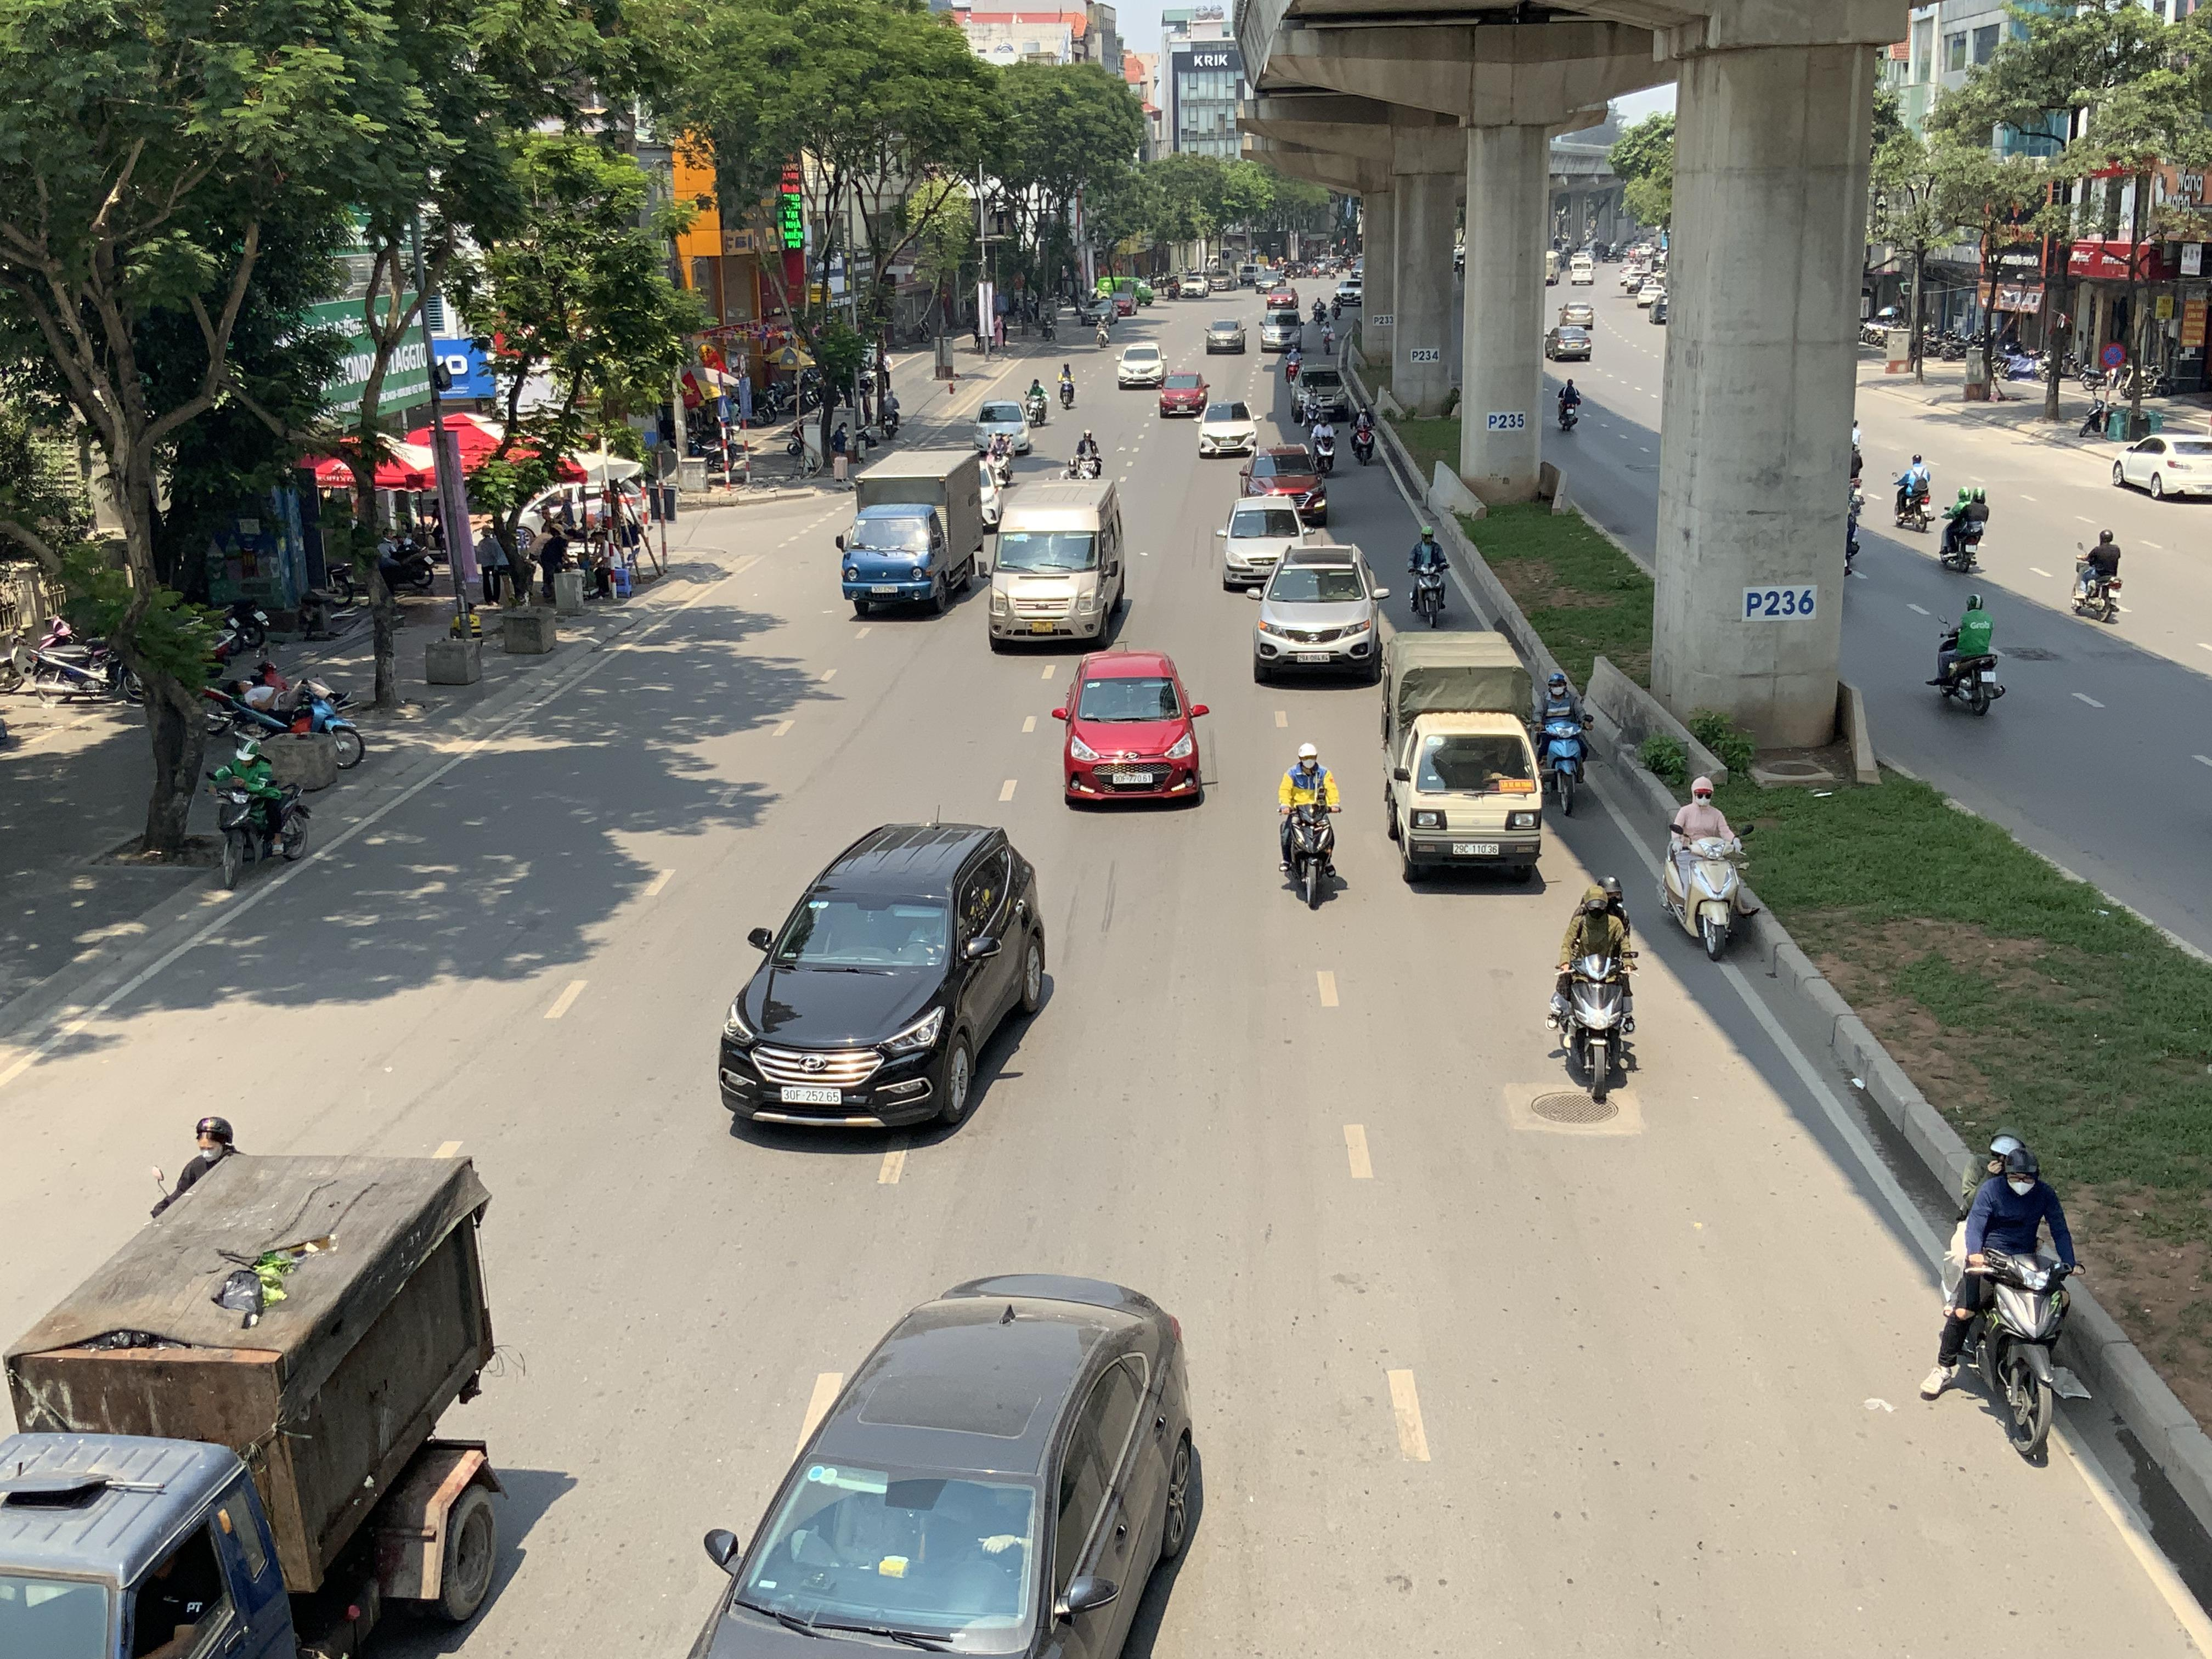BSD: (782, 1086, 841, 1103), (1453, 842, 1500, 854), (1113, 772, 1153, 784), (1296, 653, 1331, 662), (871, 586, 899, 592)
BSV: (1031, 622, 1054, 633)
car: (664, 1272, 1207, 1659), (718, 817, 1054, 1134), (1052, 650, 1212, 810), (1249, 542, 1392, 685), (1217, 495, 1306, 589), (1238, 444, 1331, 526), (2109, 432, 2212, 502), (1197, 399, 1259, 458), (1289, 364, 1348, 423), (975, 399, 1033, 455), (1115, 342, 1169, 389), (1158, 371, 1211, 416), (1259, 307, 1305, 354), (1545, 326, 1592, 362), (1205, 317, 1249, 354), (1082, 300, 1118, 326), (1557, 301, 1594, 328), (1264, 286, 1299, 308), (1334, 279, 1362, 307), (1254, 270, 1285, 295), (1108, 291, 1137, 315)
motorbike: (1925, 1133, 2080, 1469), (1548, 875, 1641, 1115), (206, 657, 366, 770), (1658, 775, 1752, 960), (211, 734, 310, 873), (1277, 741, 1345, 910), (1930, 594, 2003, 716), (1536, 667, 1594, 816), (1937, 481, 1989, 575), (2073, 526, 2123, 622), (1406, 526, 1451, 629), (1892, 451, 1935, 532), (1066, 429, 1104, 481), (1348, 401, 1378, 465), (1310, 411, 1338, 477), (2080, 392, 2116, 437), (1555, 373, 1581, 434), (1022, 375, 1049, 427), (1055, 361, 1078, 411), (1303, 385, 1324, 437), (1284, 343, 1301, 382), (1320, 321, 1334, 354), (1312, 296, 1325, 324), (1097, 315, 1109, 347), (1331, 293, 1343, 321)
truck: (0, 1140, 510, 1659), (1378, 629, 1547, 884), (838, 446, 986, 619), (986, 477, 1130, 652)
